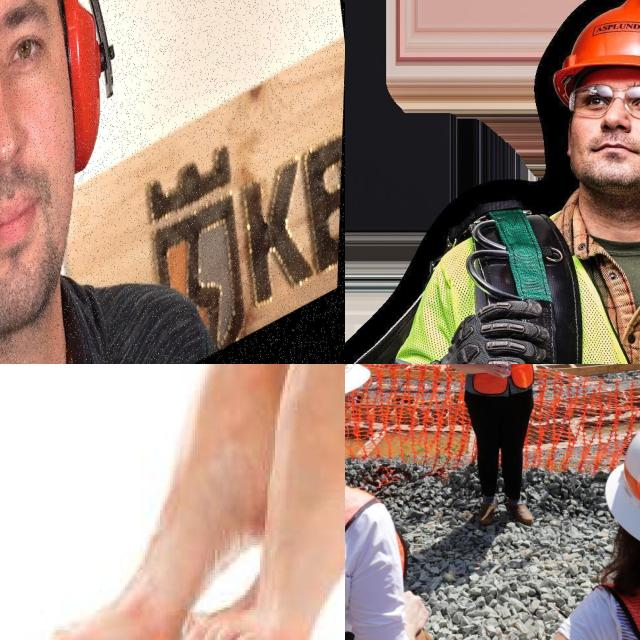Barefoots: (23, 364, 331, 640), (195, 364, 345, 640)
Ear-protection: (0, 0, 115, 275)
No_Glasses: (0, 0, 58, 123)
face_nomask: (555, 75, 640, 203)
glasses: (562, 80, 640, 123)
hand_glove: (418, 294, 568, 364)
hand_noglove: (482, 364, 517, 382)
head_helmet: (549, 0, 640, 123), (596, 410, 640, 549)
person: (0, 0, 231, 364), (424, 0, 640, 364), (426, 364, 587, 531), (345, 364, 426, 640), (564, 407, 640, 640)
shoes: (504, 492, 535, 528), (470, 496, 500, 525)
vest: (449, 217, 640, 364), (345, 458, 410, 640), (452, 364, 549, 392)
